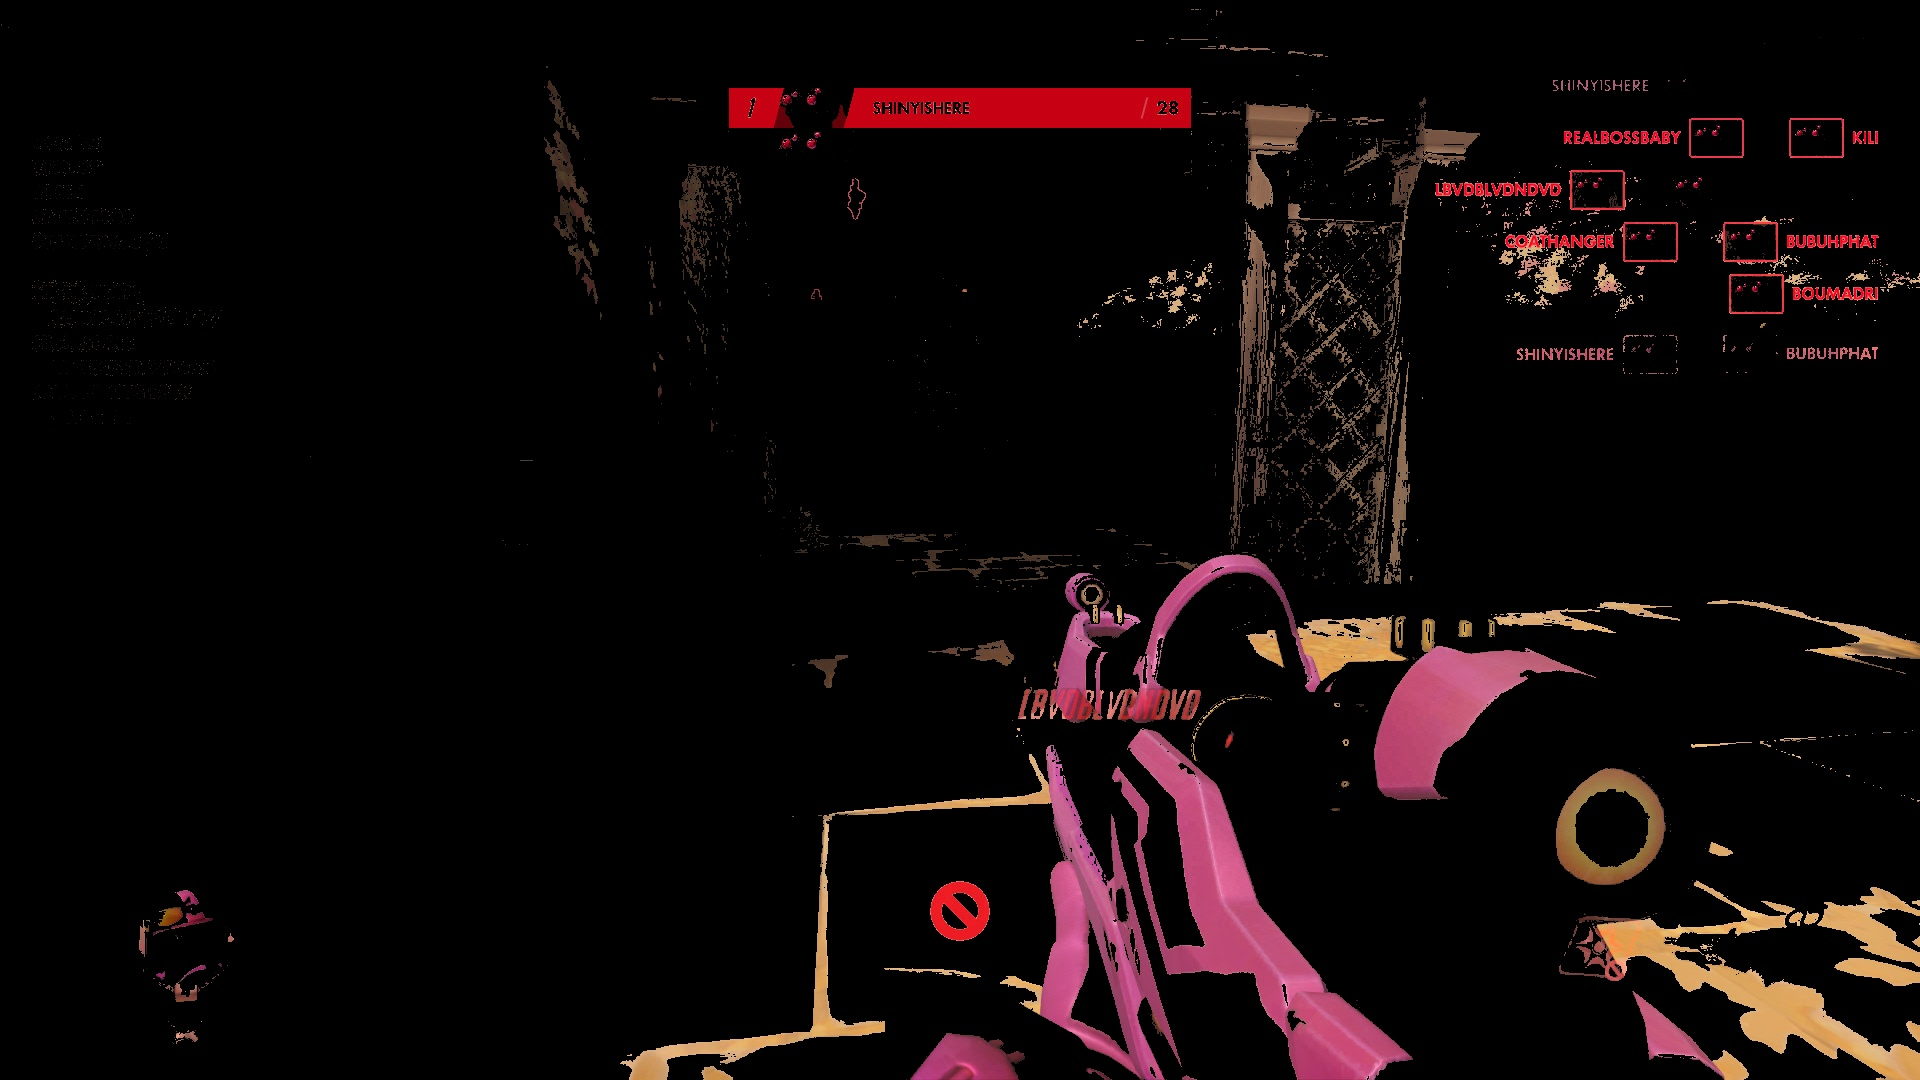widowmaker: (848, 179, 866, 220), (810, 287, 824, 301)
